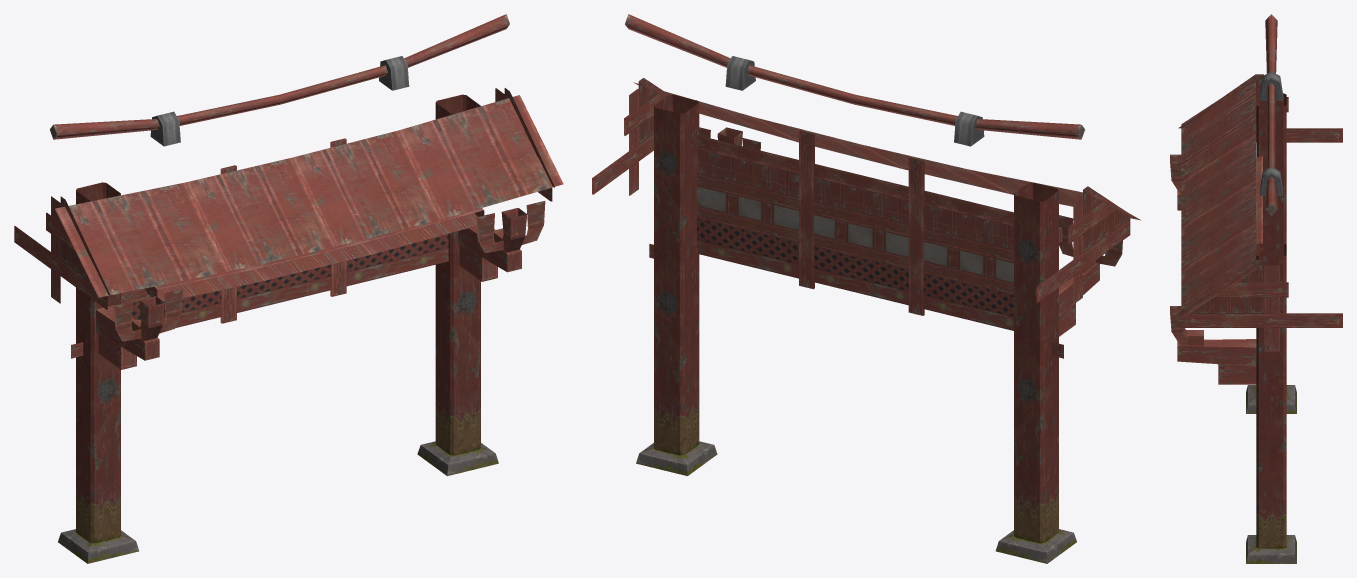
Rendered from b_zx_yuanmen01_01_lod1.FBX.
3 renders of one model, left to right at view 1: azimuth 30°, elevation 25°; view 2: azimuth 150°, elevation 25°; view 3: azimuth 270°, elevation 25°, orthographic. The views are drawn at different scales.
Visible parts, largest first — view 1: b_zx_yuanmen01_01_lod1; view 2: b_zx_yuanmen01_01_lod1; view 3: b_zx_yuanmen01_01_lod1.
Boxes of the visible parts, x1=… form: b_zx_yuanmen01_01_lod1: x1=14, y1=14, x2=563, y2=563; b_zx_yuanmen01_01_lod1: x1=592, y1=14, x2=1140, y2=563; b_zx_yuanmen01_01_lod1: x1=1170, y1=14, x2=1342, y2=563.
Size of the model in its own units: 8.46 by 7.52 by 3.18.
